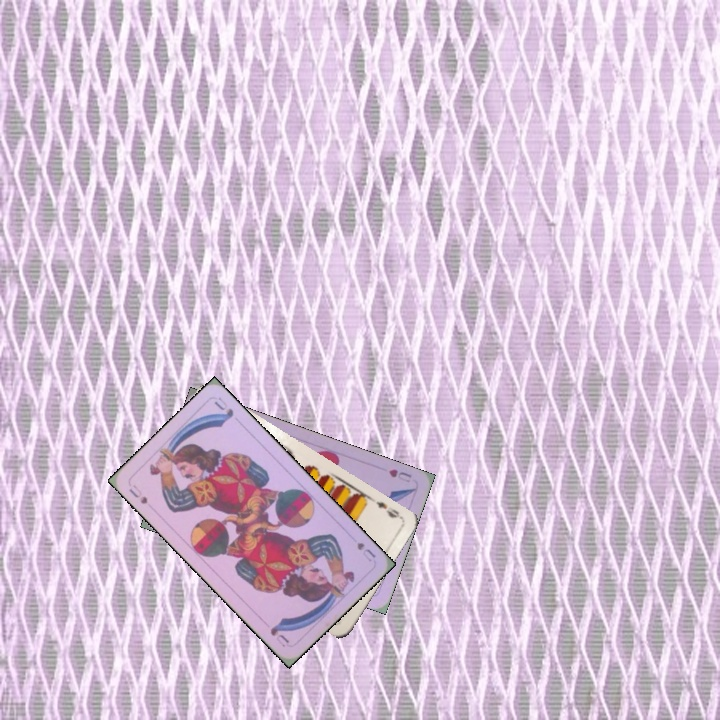E9: (371, 497, 404, 521)
HU: (384, 465, 414, 485)
SU: (125, 480, 150, 507), (353, 538, 378, 564)
